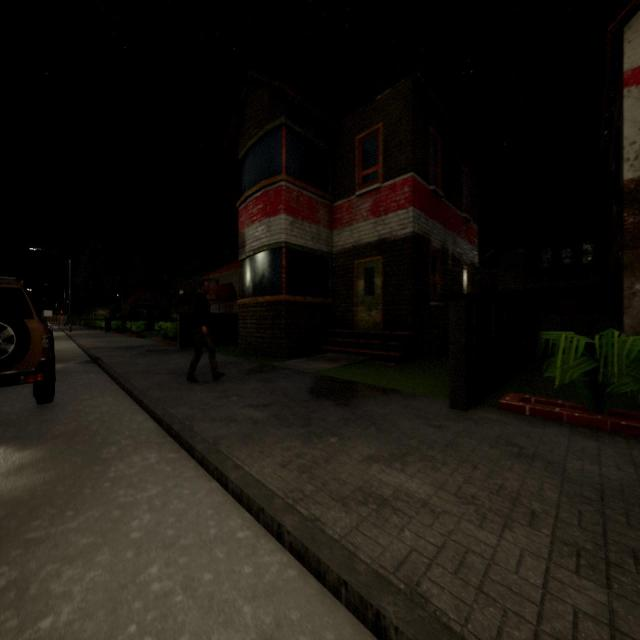Pedestrian: (186, 278, 224, 382)
Vehicle: (0, 277, 56, 404)
traffic_light: (61, 309, 62, 316)
